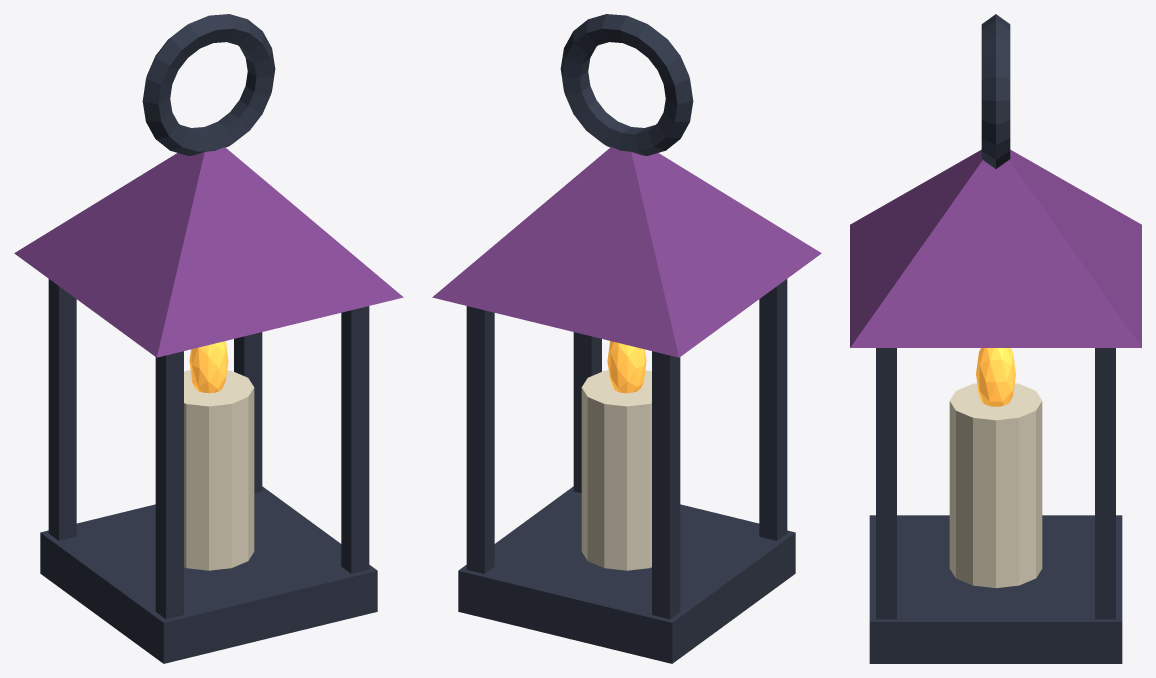
The model's file is moonlit-mischief-hanging-lantern-97fe0352__2167.glb.
3 views of the same model, side by side, from view 1: azimuth 30°, elevation 25°; view 2: azimuth 150°, elevation 25°; view 3: azimuth 270°, elevation 25° (orthographic). The views are drawn at different scales.
Parts seen in each view (by area): view 1: hanging-lantern; view 2: hanging-lantern; view 3: hanging-lantern.
Boxes of the visible parts, left/top/right/bottom form: hanging-lantern: left=14, top=14, right=403, bottom=663; hanging-lantern: left=432, top=14, right=821, bottom=663; hanging-lantern: left=850, top=14, right=1141, bottom=663.
Bounding box in the file's own units: 0.3465 × 0.773 × 0.3465.
